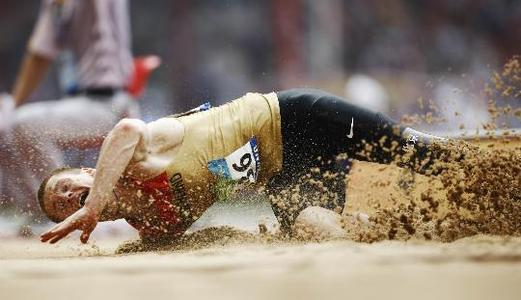fall: (9, 75, 520, 253)
